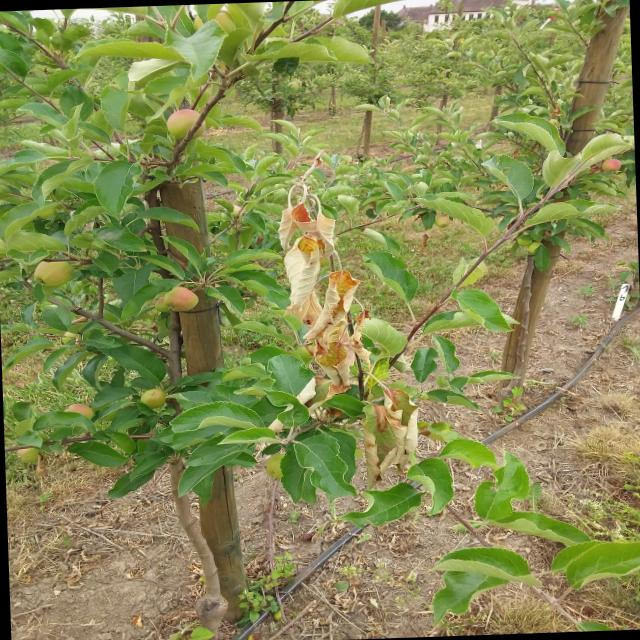-FireBlight-: (282, 171, 376, 391)
